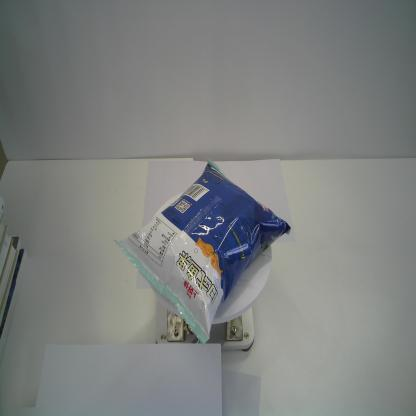Puffed Food: (113, 157, 292, 344)
